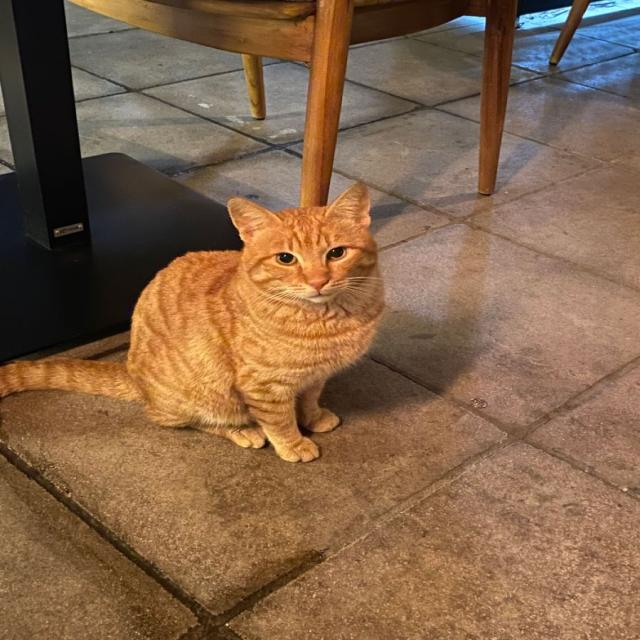sarman: (0, 104, 533, 586)
